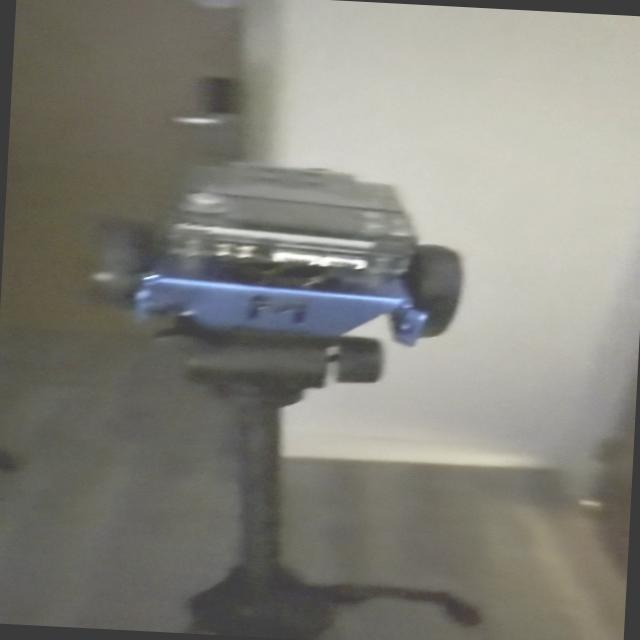mbot-detection: (79, 152, 478, 358)
